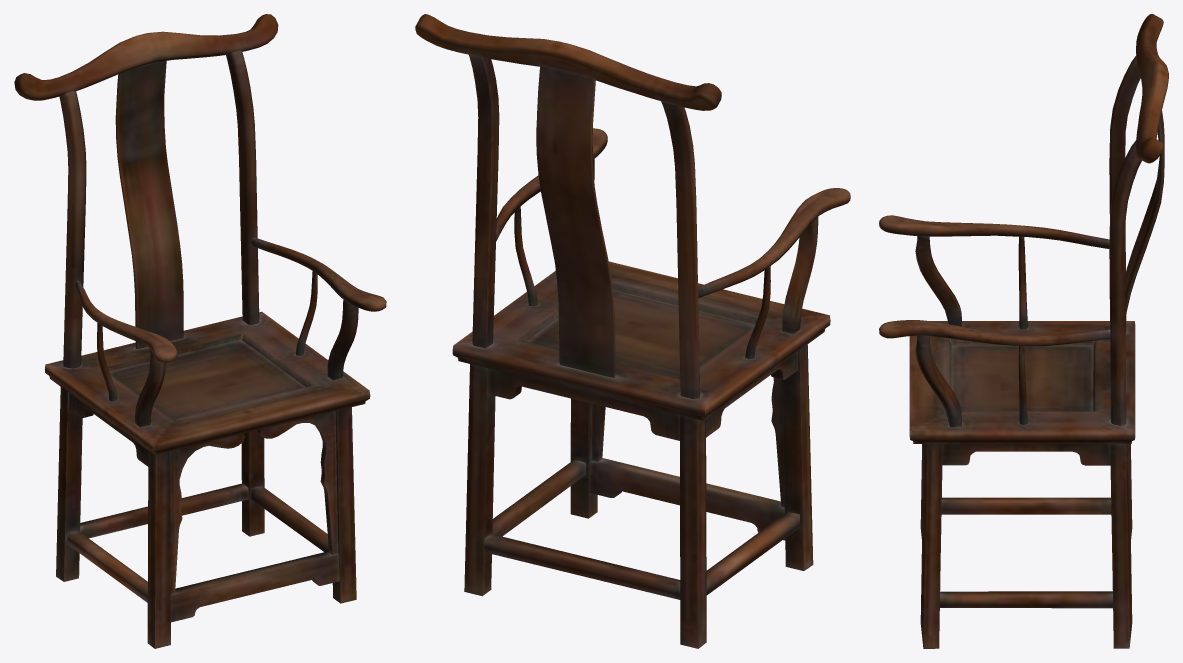
File: armchair-chinese.lite.eda28c78.glb
The picture shows the model from 3 angles, left to right: view 1: azimuth 30°, elevation 25°; view 2: azimuth 150°, elevation 25°; view 3: azimuth 270°, elevation 25°; orthographic projection. The views are drawn at different scales.
Parts seen in each view (by area): view 1: model; view 2: model; view 3: model.
Part boxes in pixels (x1,y1,x2,y2): model: (14, 14, 386, 648); model: (415, 14, 850, 648); model: (879, 14, 1168, 648).
Size of the model in its own units: 0.8483 by 1.59 by 0.7887.
Materials: 1 (1 with a texture image).
